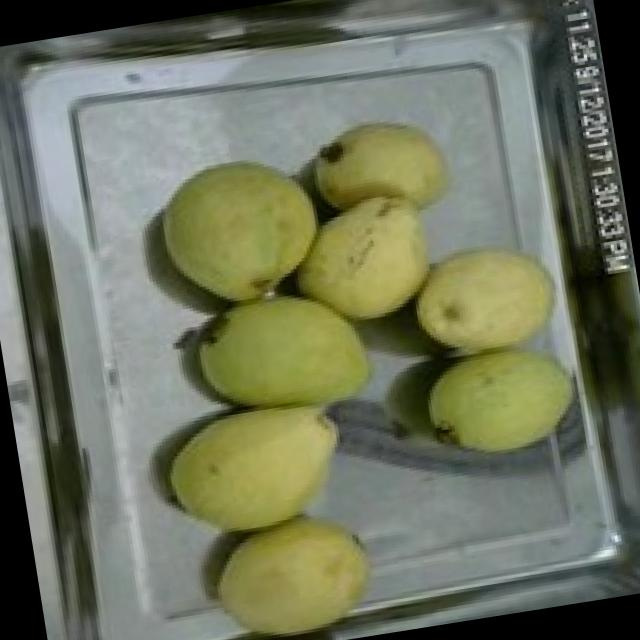Fruit: (149, 377, 372, 554), (178, 270, 390, 446), (144, 142, 339, 322), (199, 492, 395, 640), (272, 183, 450, 344), (406, 326, 594, 478), (390, 225, 574, 377)
